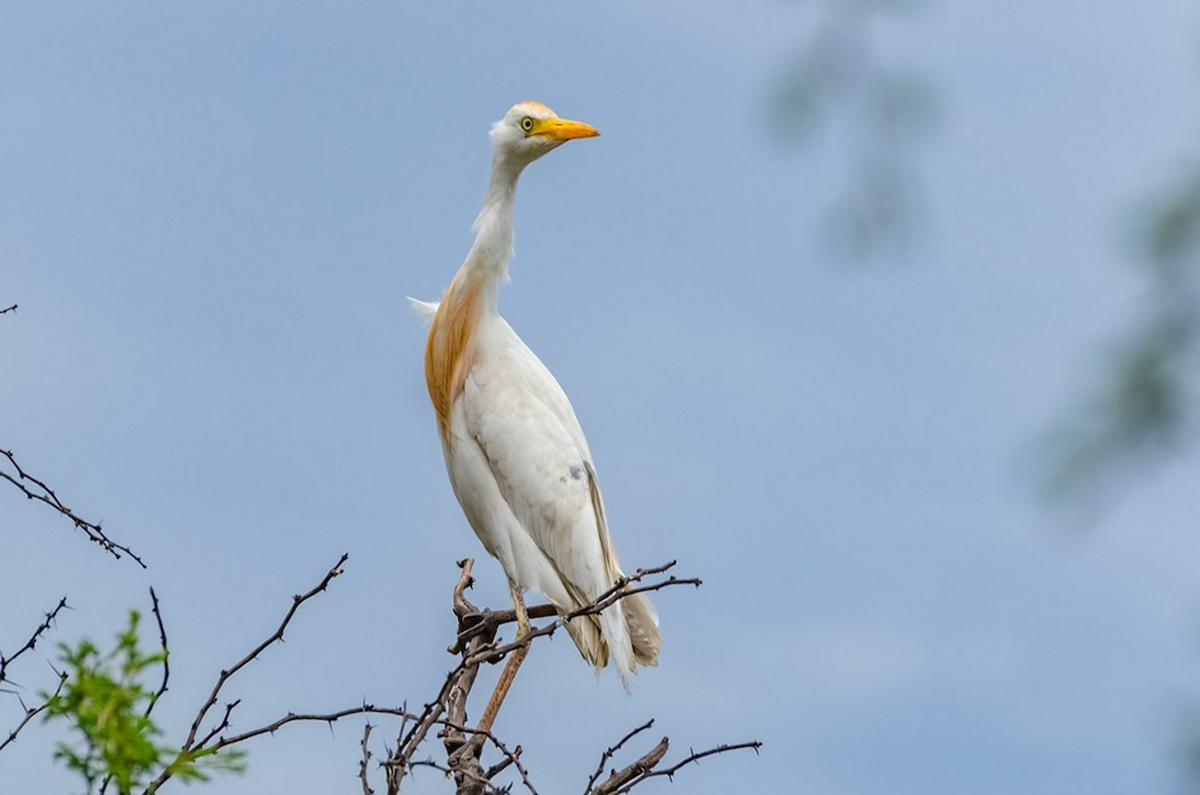egret: (422, 88, 681, 671)
